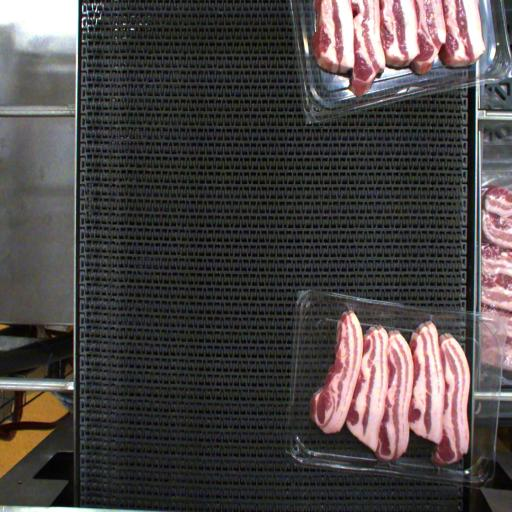packaging-error: (338, 292, 360, 318)
